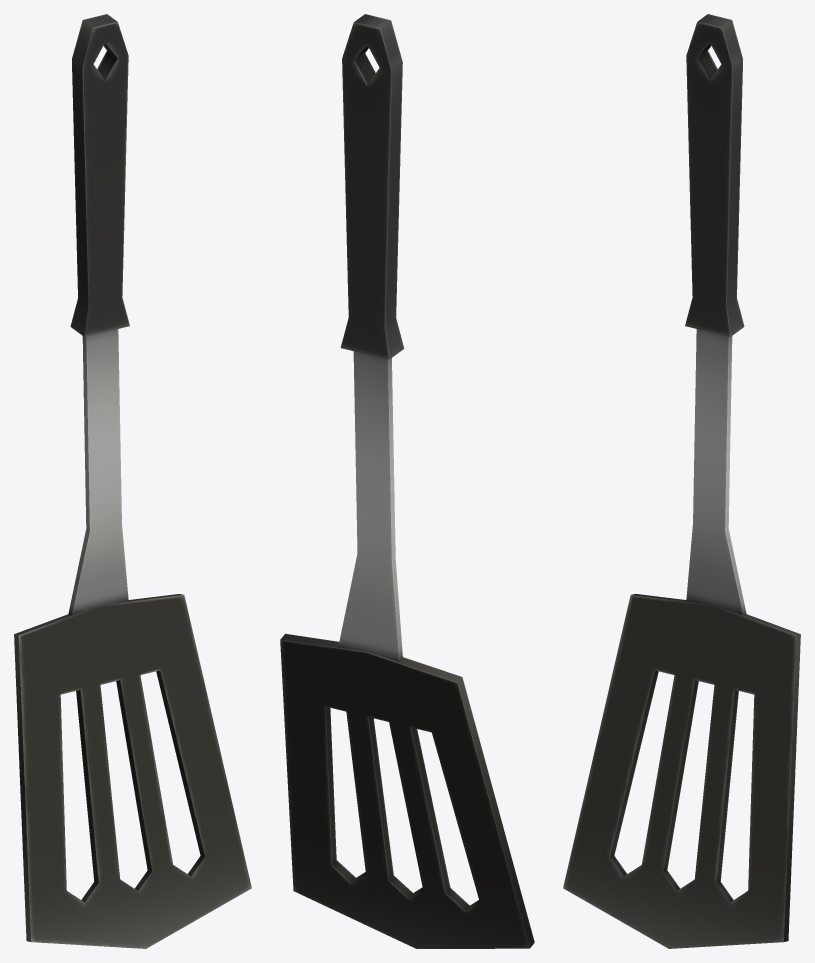
File: KR_Spatula_01_02.fbx
3 renders of one model, left to right at view 1: azimuth 30°, elevation 25°; view 2: azimuth 150°, elevation 25°; view 3: azimuth 330°, elevation 25°, orthographic. The views are drawn at different scales.
Visible parts, largest first — view 1: kr_spatula_01_02; view 2: kr_spatula_01_02; view 3: kr_spatula_01_02.
Boxes of the visible parts, left/top/right/bottom form: kr_spatula_01_02: left=14, top=14, right=251, bottom=948; kr_spatula_01_02: left=280, top=14, right=534, bottom=948; kr_spatula_01_02: left=563, top=14, right=800, bottom=948.
Bounding box in the file's own units: 8.58 × 33.3 × 3.56.
